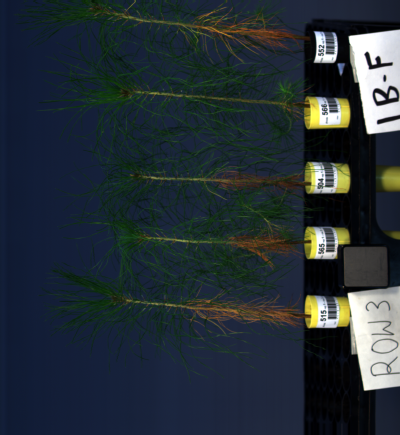tube: (302, 93, 348, 129), (302, 292, 348, 328), (302, 223, 348, 259), (301, 160, 347, 196), (303, 27, 348, 63)
